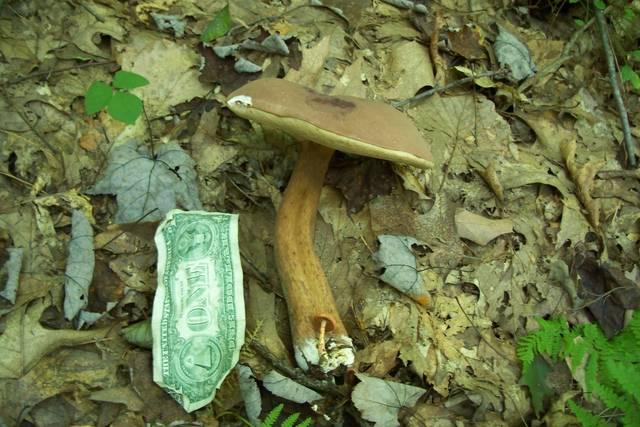poisonous_mushroom: (223, 75, 435, 376)
